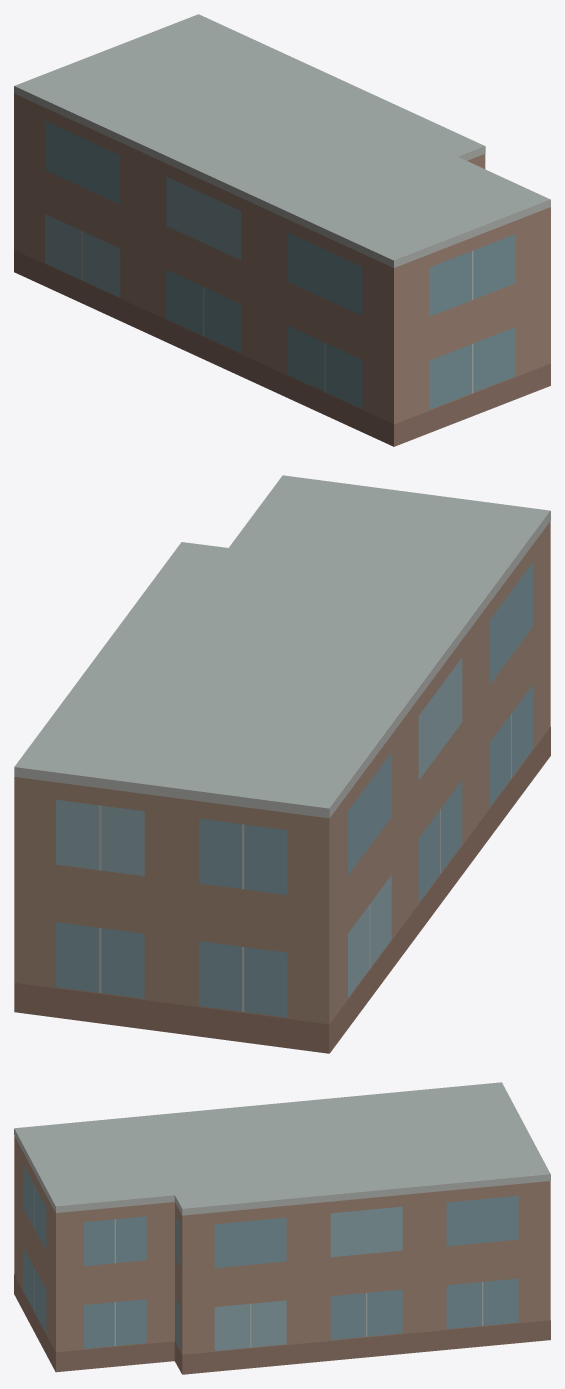
Rendered from survey-upis-32806908.glb.
3 renders of one model, top to bottom at view 1: azimuth 30°, elevation 25°; view 2: azimuth 150°, elevation 25°; view 3: azimuth 270°, elevation 25°, orthographic. The views are drawn at different scales.
Visible parts, largest first — view 1: survey-upis-32806908.tmp; view 2: survey-upis-32806908.tmp; view 3: survey-upis-32806908.tmp.
Part boxes in pixels (x1,y1,x2,y2): survey-upis-32806908.tmp: (14, 14, 550, 446); survey-upis-32806908.tmp: (14, 475, 550, 1053); survey-upis-32806908.tmp: (14, 1082, 550, 1374).
Size of the model in its own units: 10.02 by 6.1 by 17.92.
